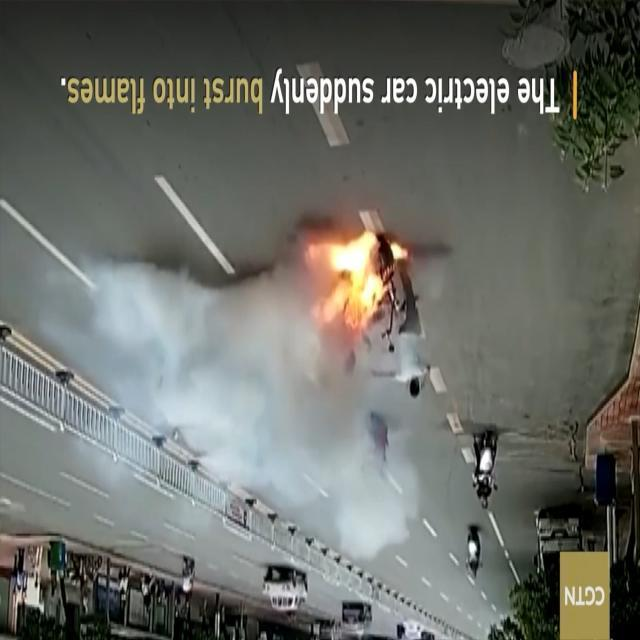fire: (299, 230, 417, 343)
